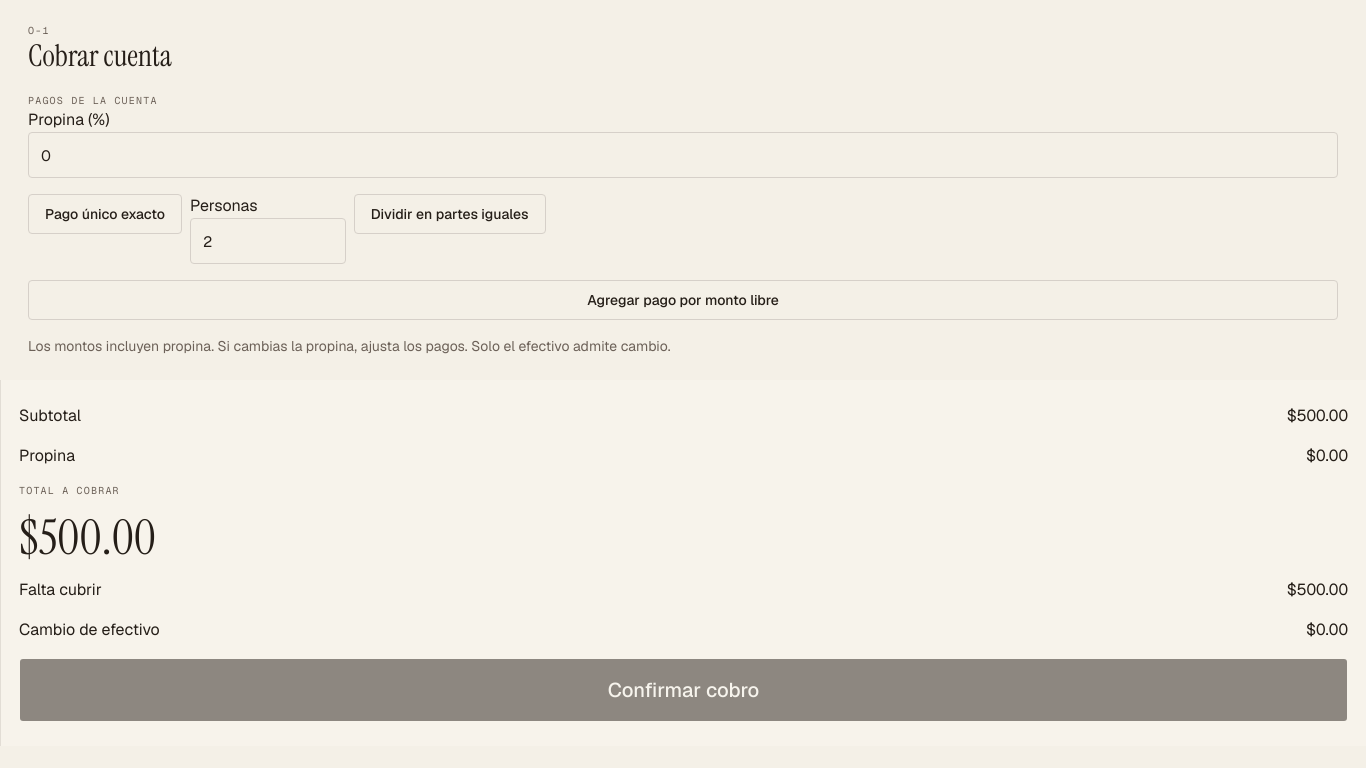
preserves editable payments and displays the server error on rejection
Click the button "Pago único exacto": (105, 214) left=28, top=194, right=182, bottom=234
(page scrolled)
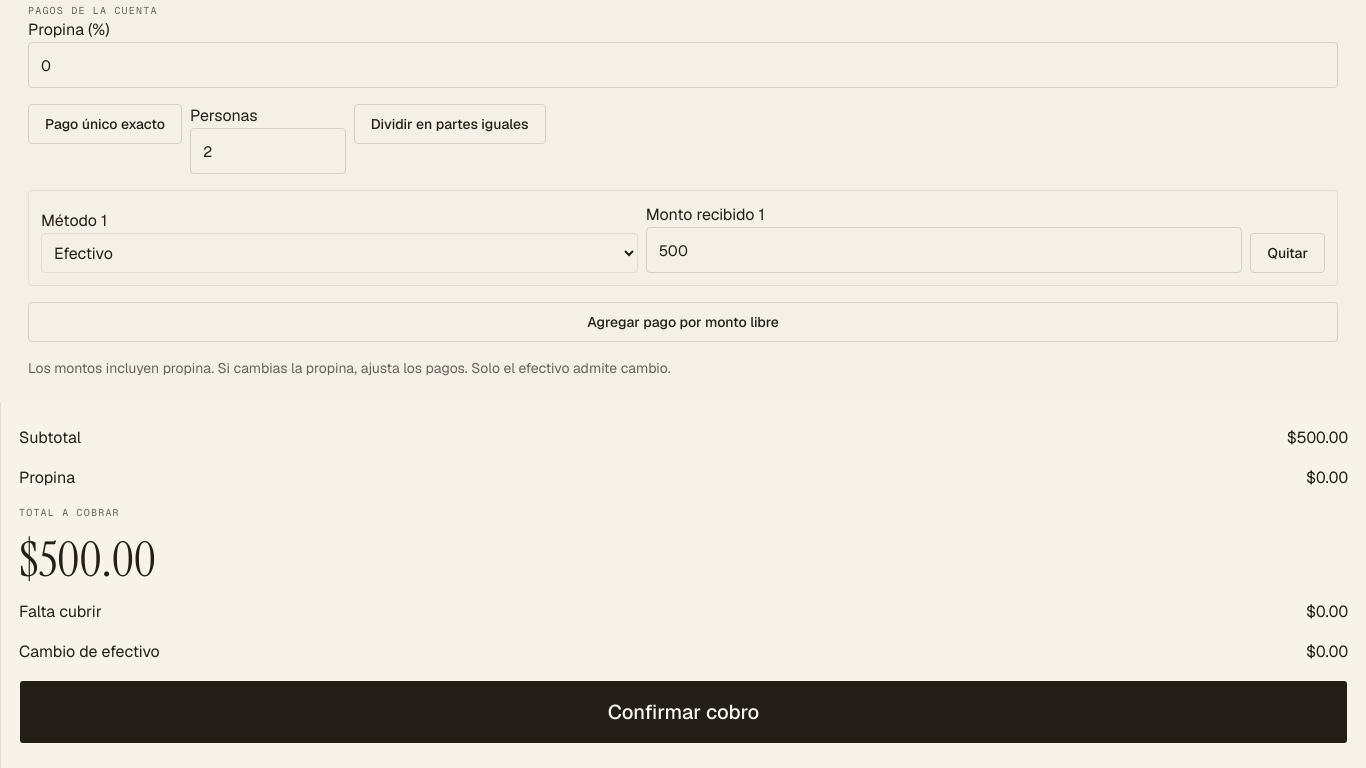
Click the button "Confirmar cobro": (684, 712) left=19, top=680, right=1348, bottom=744
(page scrolled)
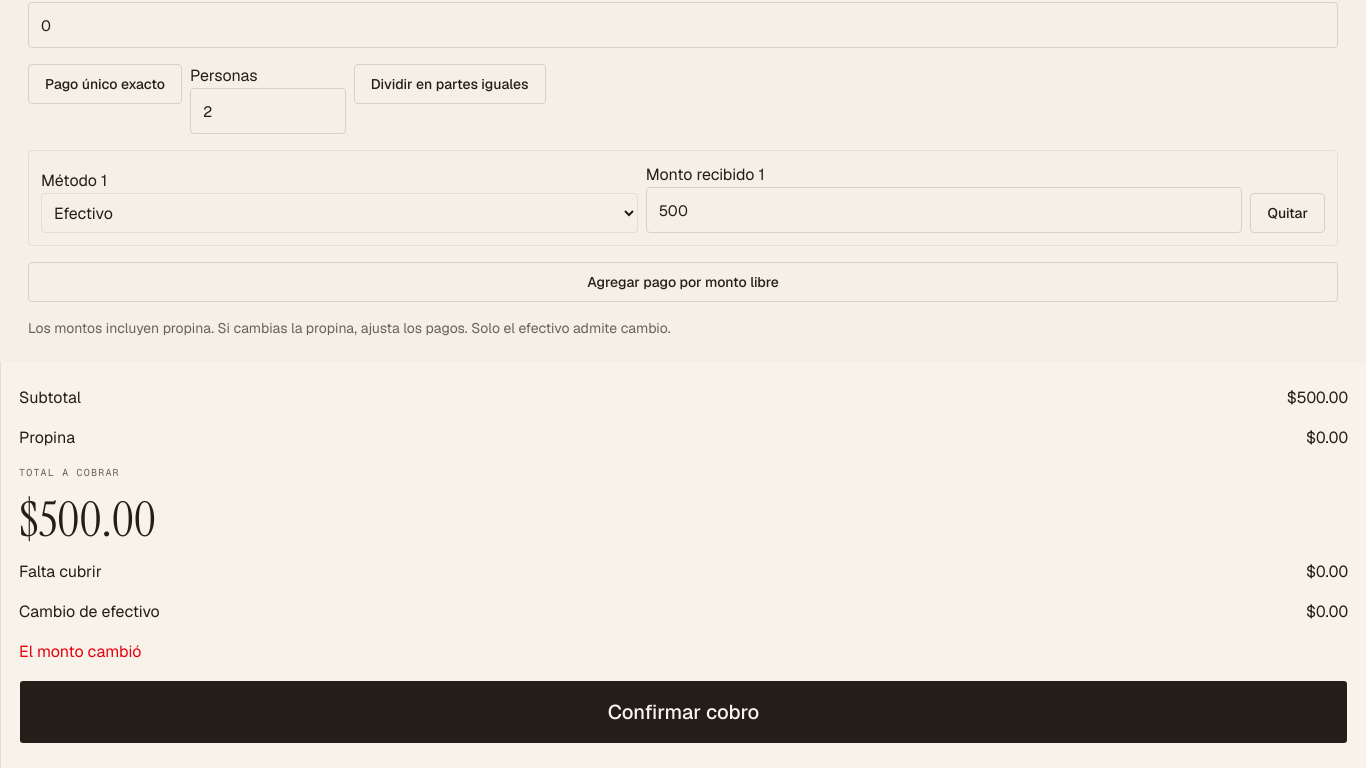
Expected: the number field labelled "Monto recibido 1" holds "500", left=646, top=187, right=1242, bottom=233
Expected: the button "Confirmar cobro" is enabled, left=19, top=680, right=1348, bottom=744
Expected: the text "El monto cambió" is shown, left=19, top=641, right=141, bottom=662
